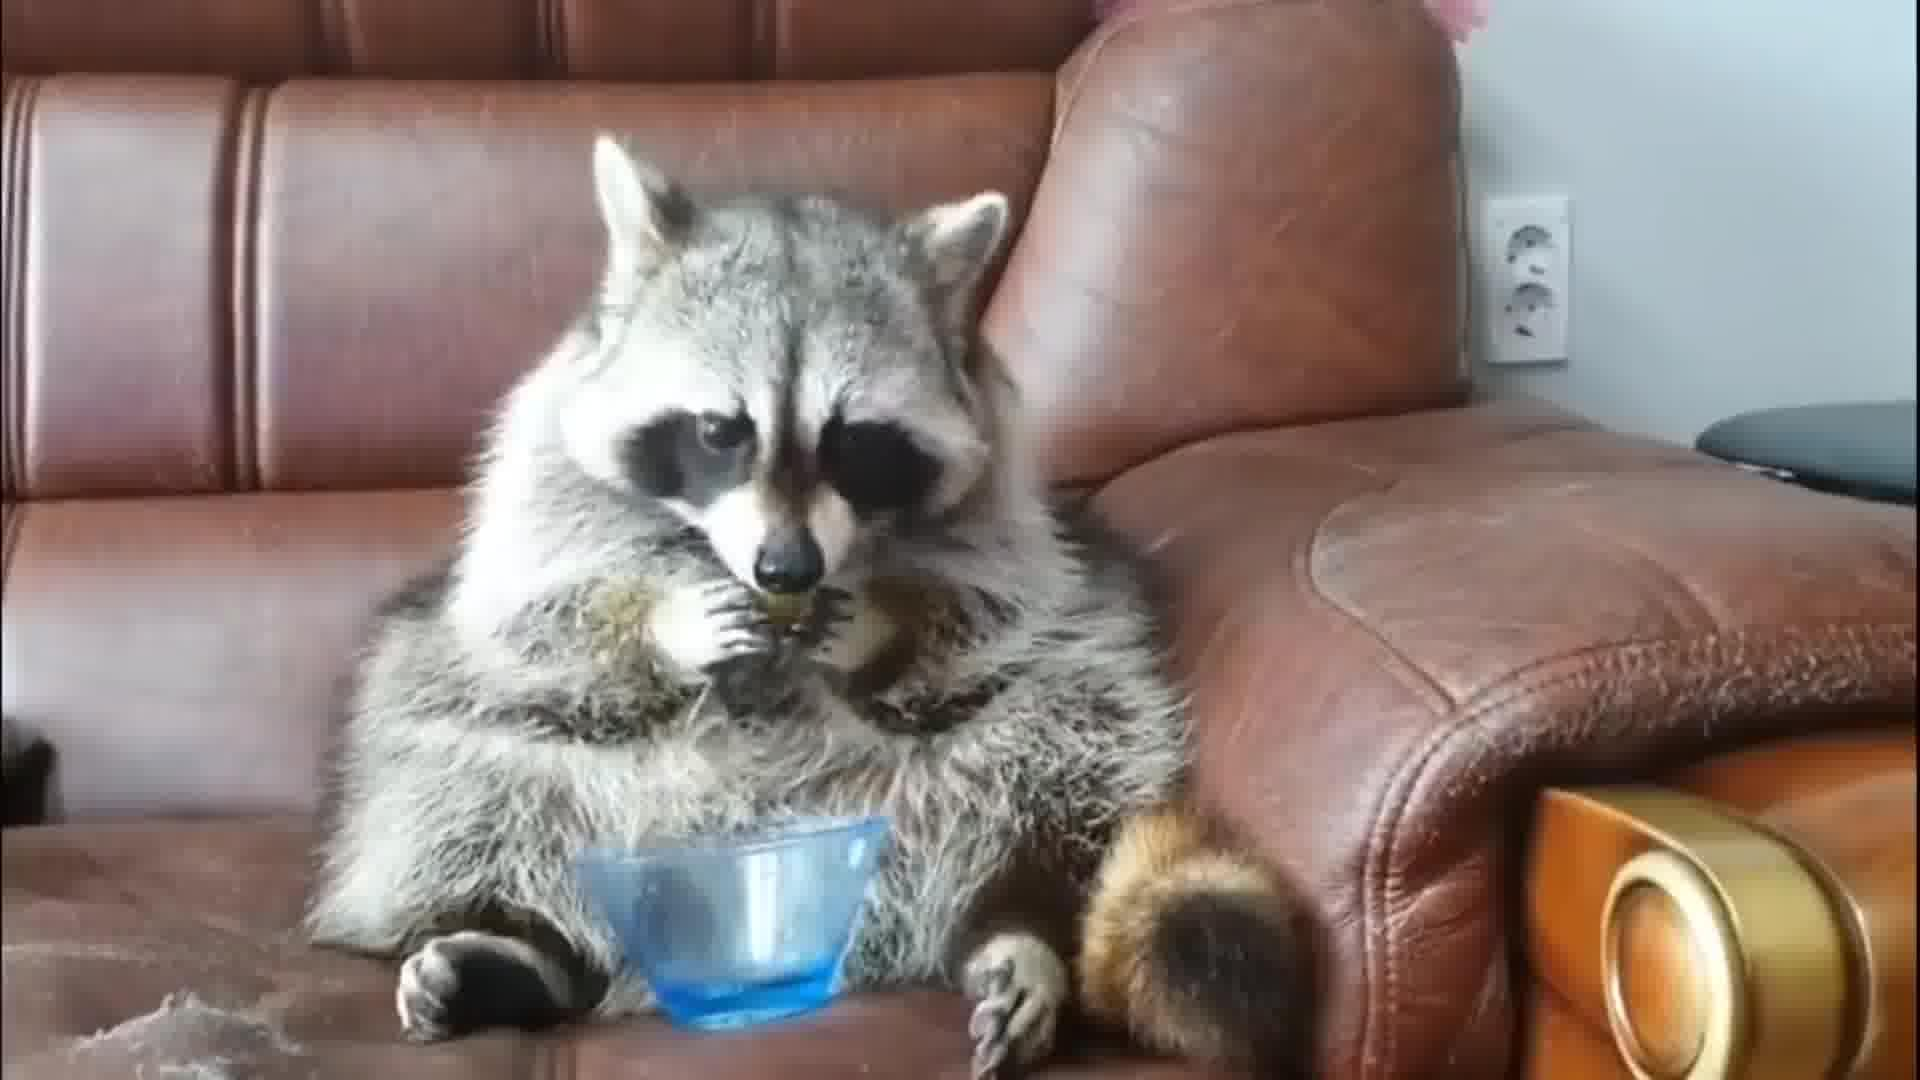raccoon: (311, 127, 1342, 1080)
